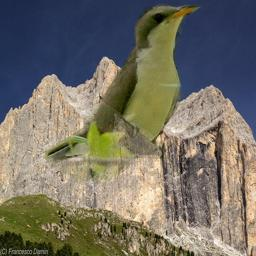Cuckoo: (46, 0, 202, 184)
